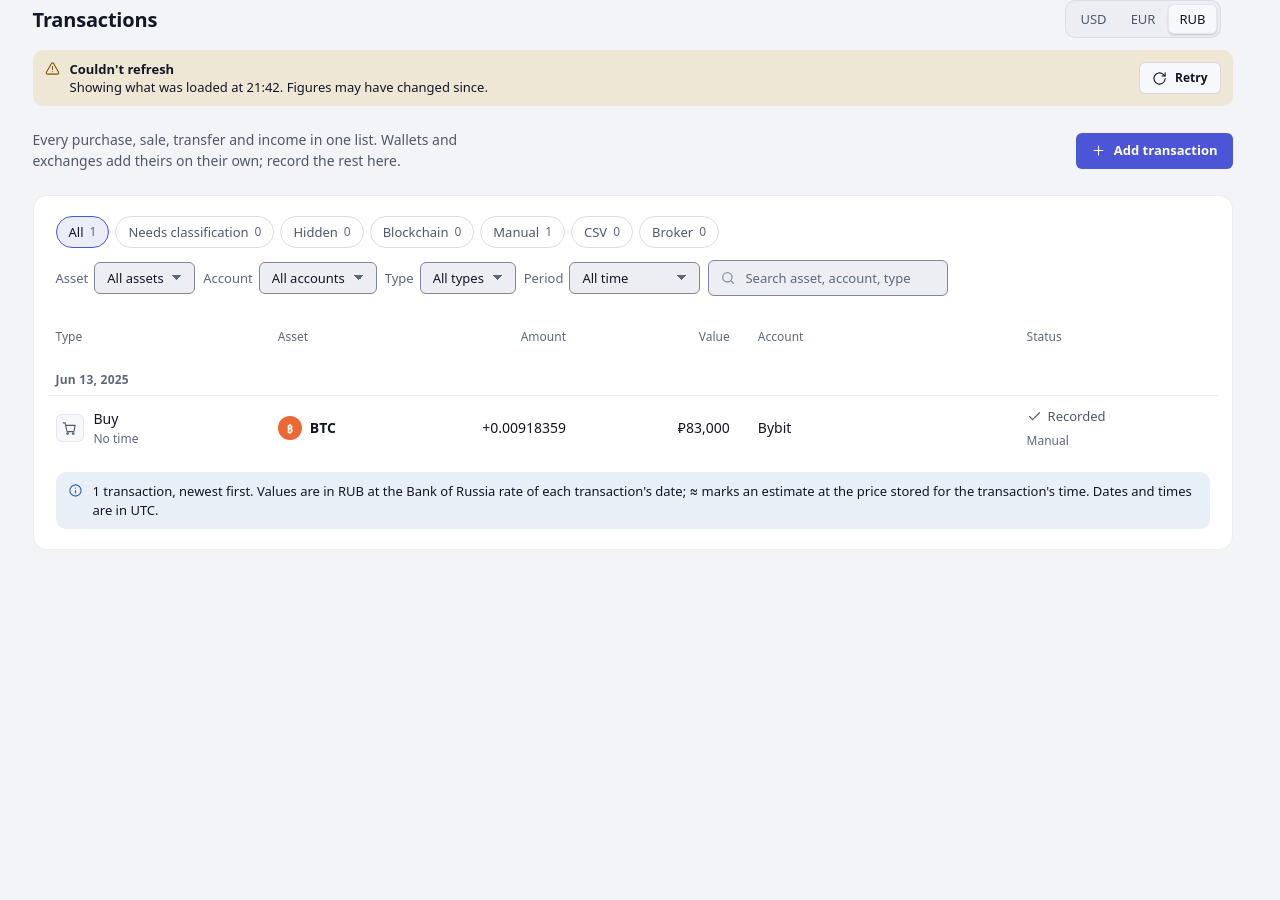
Test: TransactionsPage (list-all-operations) › RUB-FEE rounds converted fees up and keeps native fees exact: native=false
Click the button "Buy": (106, 419) top-left (94, 409), bottom-right (118, 430)
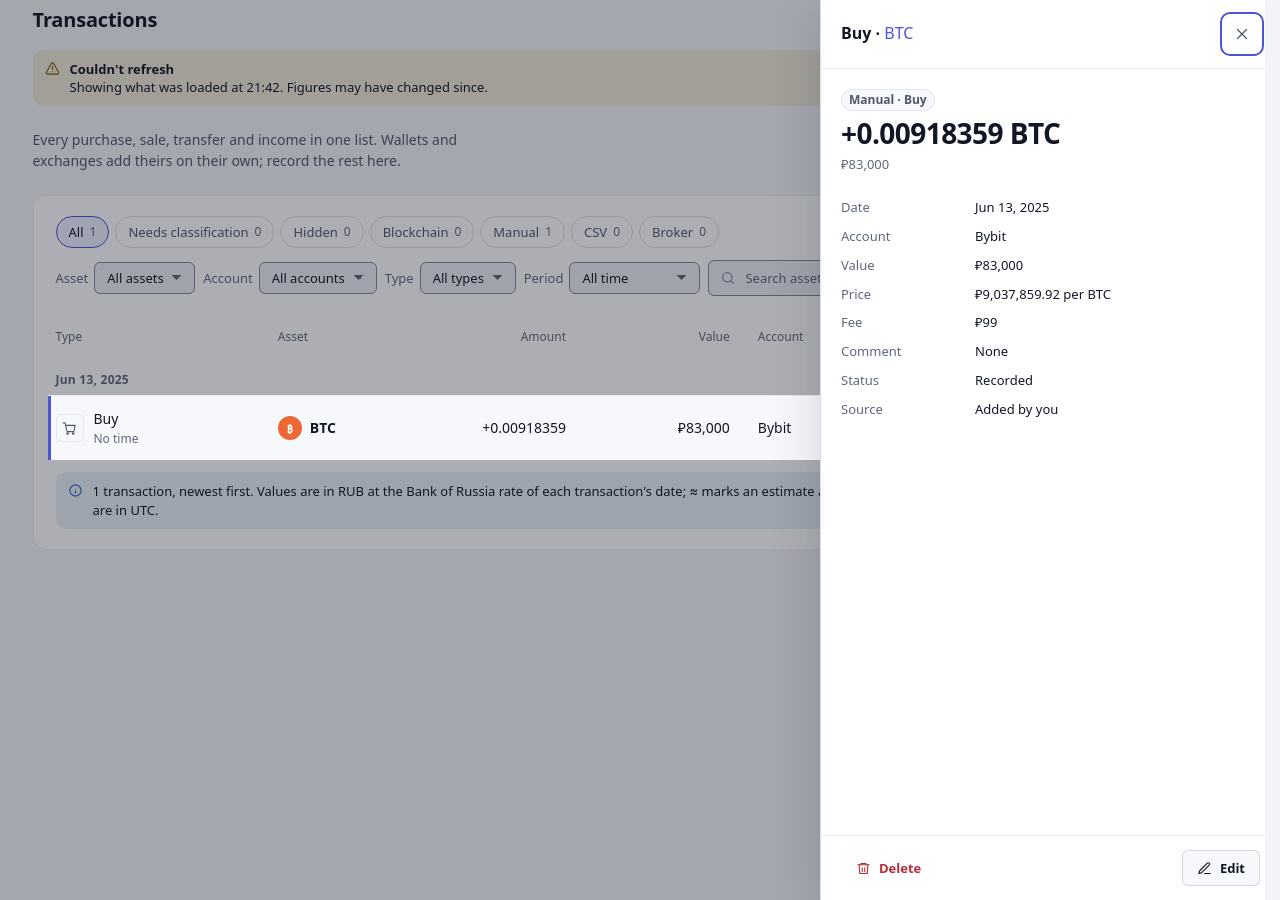
Result: the text "₽99" is shown at top-left (975, 313), bottom-right (998, 331)
